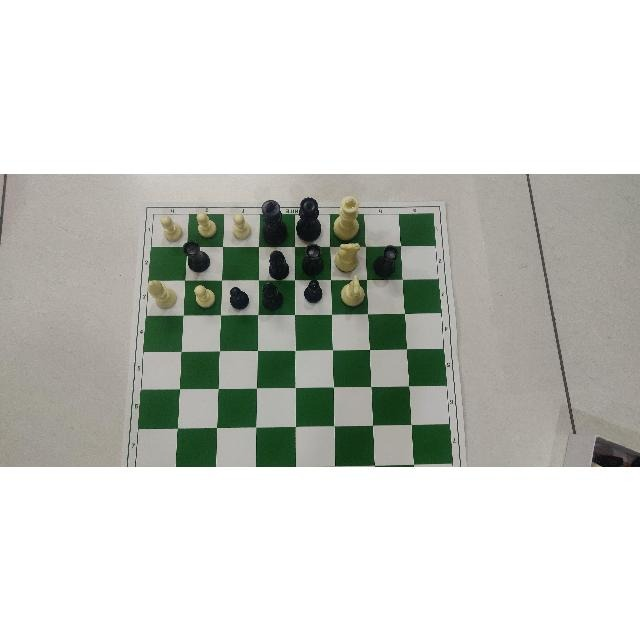black-bishop: (267, 249, 290, 279), (260, 281, 283, 309)
black-king: (260, 198, 288, 245)
black-pawn: (302, 278, 324, 301), (229, 286, 250, 310)
black-queen: (296, 196, 322, 240)
black-rook: (182, 239, 210, 272), (373, 243, 400, 276), (302, 242, 324, 275)
white-bishop: (145, 275, 180, 310)
white-king: (333, 193, 361, 238)
white-knight: (340, 273, 366, 307), (334, 240, 362, 271)
white-pawn: (190, 279, 218, 311), (157, 213, 182, 243), (230, 210, 254, 239), (194, 212, 218, 240)
